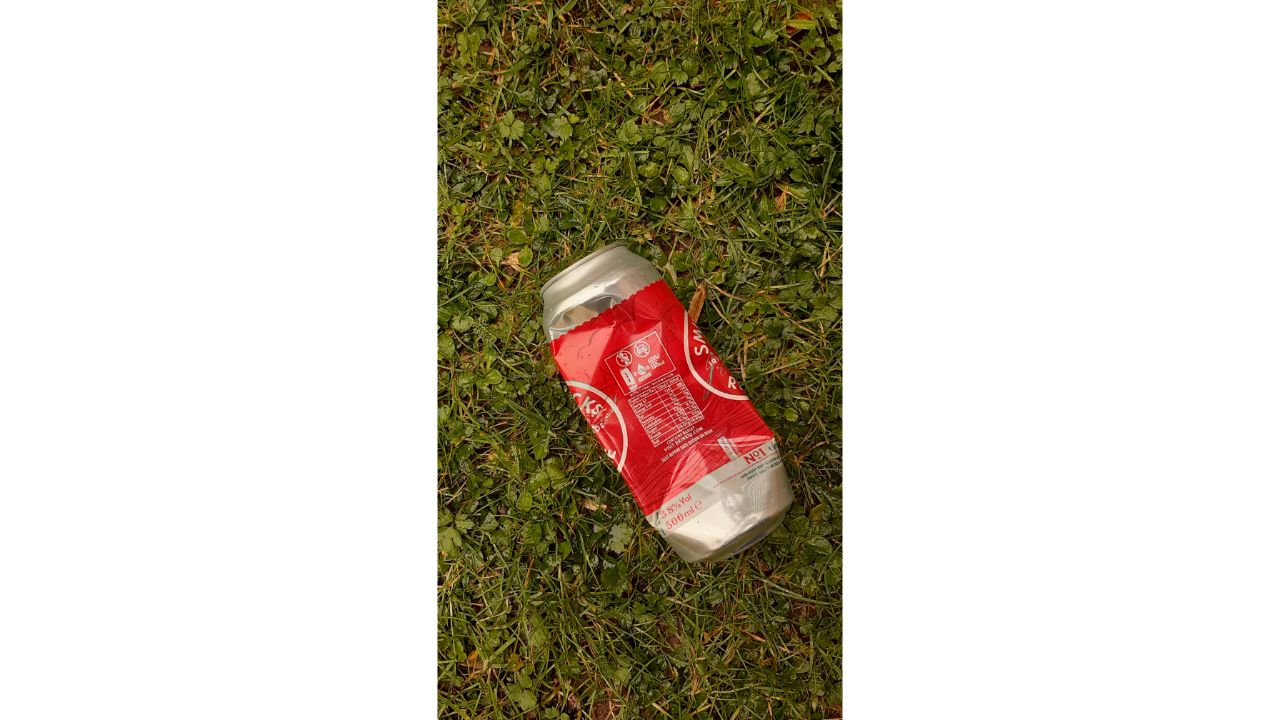Can: (540, 243, 795, 562)
